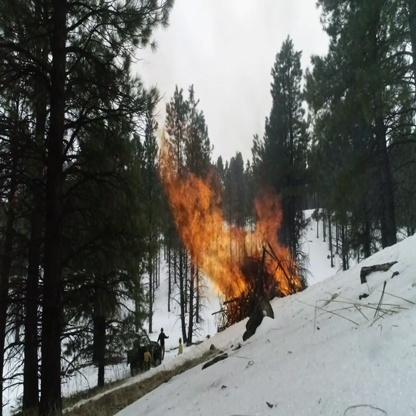Fire: (156, 102, 307, 321)
